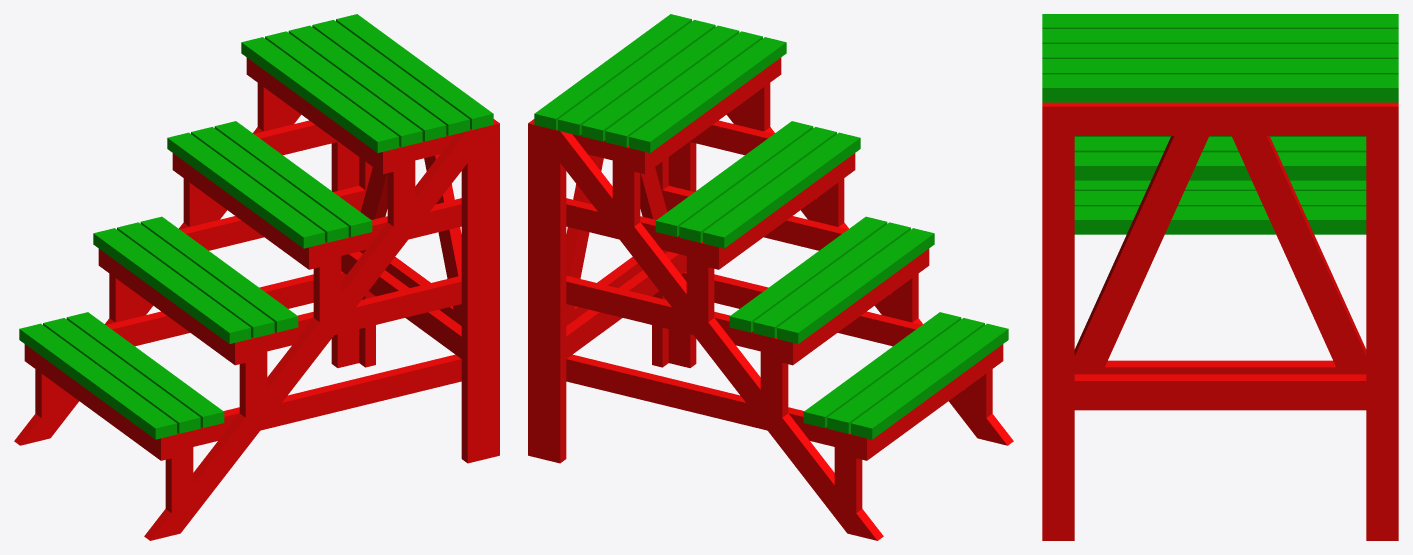
Rendered from result.glb.
The picture shows the model from 3 angles, left to right: view 1: azimuth 30°, elevation 25°; view 2: azimuth 150°, elevation 25°; view 3: azimuth 270°, elevation 25°; orthographic projection. The views are drawn at different scales.
Parts seen in each view (by area): view 1: 14993118-529d-49d8-8742-8644e8ab0e7d__undefined, 3391fc47-6b82-4a13-a2a6-6f2e39e4d282__undefined, 07e68b60-e8d6-4311-8704-81461fcabac0__undefined, 71d67bb4-9f45-4ae2-a415-7894db857485__undefined, 704a0af5-2028-42f5-a0a1-352c34d02679__undefined, 953f835e-effc-41fb-b34f-941bc8b8ab13__undefined, aba384d6-57f7-4c6c-a116-13dd41d62a7f__undefined, f6233ea4-8a22-4c88-84df-69c22e9fec0a__undefined, 3e0dc3e9-a89d-412d-af21-51bb5fd71772__undefined, e92c1ebb-4dbe-4c12-b20b-ff680981010c__undefined, b6501186-6b9a-4401-ac57-b711fca245ad__undefined, 52e88609-cf0a-4e53-9156-fc5ceeb55216__undefined (+31 smaller); view 2: 4e70f4b0-fa96-4cfa-adc9-fcc1173f730d__undefined, b3514666-20fa-49c1-8864-eec9ff01cbe3__undefined, 961432d1-62ce-4d4b-8d86-e3facc1fa5d6__undefined, aba384d6-57f7-4c6c-a116-13dd41d62a7f__undefined, 71d67bb4-9f45-4ae2-a415-7894db857485__undefined, 704a0af5-2028-42f5-a0a1-352c34d02679__undefined, 953f835e-effc-41fb-b34f-941bc8b8ab13__undefined, 84fe46e5-88bb-4d21-9078-1f474f40d7c6__undefined, 3e0dc3e9-a89d-412d-af21-51bb5fd71772__undefined, e92c1ebb-4dbe-4c12-b20b-ff680981010c__undefined, b6501186-6b9a-4401-ac57-b711fca245ad__undefined, 52e88609-cf0a-4e53-9156-fc5ceeb55216__undefined (+32 smaller); view 3: 59c2a183-fa0d-4e7f-8338-4094a72ef251__undefined, 29757c09-4585-469e-a754-e371943d8865__undefined, a3faa8f1-e3fb-414c-a17d-df38b1071cfd__undefined, d7139ebc-404a-44a3-aba5-ce86d3ac1417__undefined, c78acf0e-19fa-41f4-b3b1-404355a3d153__undefined, 716e499d-1cf8-4894-9924-123ed3dd5a7e__undefined (×2), 6bf6624e-d5e3-42ce-af87-1e0492aa8223__undefined, e92c1ebb-4dbe-4c12-b20b-ff680981010c__undefined, b6501186-6b9a-4401-ac57-b711fca245ad__undefined, 90e28fba-24eb-444e-90b9-cc1ec8a3e827__undefined, 953f835e-effc-41fb-b34f-941bc8b8ab13__undefined, 94b362c5-187c-4353-8745-5c5ac80c6d7e__undefined (+5 smaller).
Boxes of the visible parts, box(x1,y1,x2,y2) form: 14993118-529d-49d8-8742-8644e8ab0e7d__undefined: box(144, 131, 467, 540); 3391fc47-6b82-4a13-a2a6-6f2e39e4d282__undefined: box(461, 126, 489, 463); 07e68b60-e8d6-4311-8704-81461fcabac0__undefined: box(193, 354, 461, 446); 71d67bb4-9f45-4ae2-a415-7894db857485__undefined: box(93, 228, 250, 343); 704a0af5-2028-42f5-a0a1-352c34d02679__undefined: box(167, 132, 324, 248); 953f835e-effc-41fb-b34f-941bc8b8ab13__undefined: box(241, 37, 398, 152); aba384d6-57f7-4c6c-a116-13dd41d62a7f__undefined: box(19, 323, 176, 439); f6233ea4-8a22-4c88-84df-69c22e9fec0a__undefined: box(267, 275, 461, 351); 3e0dc3e9-a89d-412d-af21-51bb5fd71772__undefined: box(288, 25, 446, 141); e92c1ebb-4dbe-4c12-b20b-ff680981010c__undefined: box(66, 312, 224, 427); b6501186-6b9a-4401-ac57-b711fca245ad__undefined: box(140, 216, 298, 332); 52e88609-cf0a-4e53-9156-fc5ceeb55216__undefined: box(214, 121, 372, 236); 4e70f4b0-fa96-4cfa-adc9-fcc1173f730d__undefined: box(560, 131, 883, 540); b3514666-20fa-49c1-8864-eec9ff01cbe3__undefined: box(538, 126, 566, 463); 961432d1-62ce-4d4b-8d86-e3facc1fa5d6__undefined: box(566, 354, 834, 446); aba384d6-57f7-4c6c-a116-13dd41d62a7f__undefined: box(851, 323, 1008, 439); 71d67bb4-9f45-4ae2-a415-7894db857485__undefined: box(777, 228, 934, 343); 704a0af5-2028-42f5-a0a1-352c34d02679__undefined: box(703, 132, 860, 248); 953f835e-effc-41fb-b34f-941bc8b8ab13__undefined: box(629, 37, 786, 152); 84fe46e5-88bb-4d21-9078-1f474f40d7c6__undefined: box(566, 275, 760, 351); 3e0dc3e9-a89d-412d-af21-51bb5fd71772__undefined: box(581, 25, 739, 141); e92c1ebb-4dbe-4c12-b20b-ff680981010c__undefined: box(803, 312, 961, 427); b6501186-6b9a-4401-ac57-b711fca245ad__undefined: box(729, 216, 887, 332); 52e88609-cf0a-4e53-9156-fc5ceeb55216__undefined: box(655, 121, 813, 236); 59c2a183-fa0d-4e7f-8338-4094a72ef251__undefined: box(1042, 136, 1074, 540); 29757c09-4585-469e-a754-e371943d8865__undefined: box(1366, 136, 1398, 540); a3faa8f1-e3fb-414c-a17d-df38b1071cfd__undefined: box(1042, 102, 1398, 135); d7139ebc-404a-44a3-aba5-ce86d3ac1417__undefined: box(1074, 374, 1366, 410); c78acf0e-19fa-41f4-b3b1-404355a3d153__undefined: box(1042, 74, 1398, 102); 716e499d-1cf8-4894-9924-123ed3dd5a7e__undefined (×2): box(1074, 136, 1208, 374); 6bf6624e-d5e3-42ce-af87-1e0492aa8223__undefined: box(1232, 136, 1366, 374); e92c1ebb-4dbe-4c12-b20b-ff680981010c__undefined: box(1074, 206, 1366, 234); b6501186-6b9a-4401-ac57-b711fca245ad__undefined: box(1074, 152, 1366, 180); 90e28fba-24eb-444e-90b9-cc1ec8a3e827__undefined: box(1042, 59, 1398, 74); 953f835e-effc-41fb-b34f-941bc8b8ab13__undefined: box(1042, 14, 1398, 28); 94b362c5-187c-4353-8745-5c5ac80c6d7e__undefined: box(1042, 29, 1398, 43).
Bounding box in the file's own units: 815 × 765 × 550.
